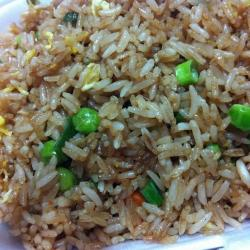rice: (16, 30, 210, 194)
